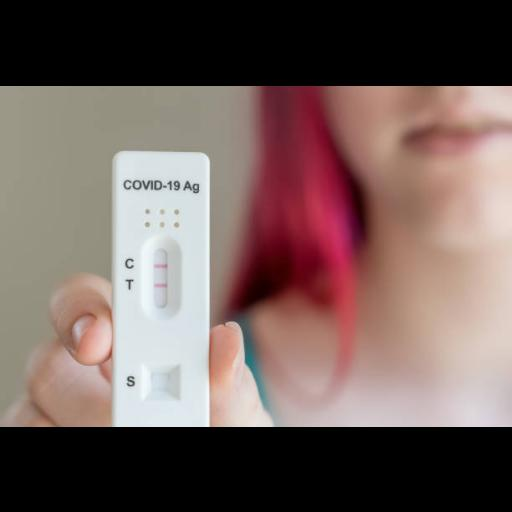Pos: (114, 150, 208, 424)
